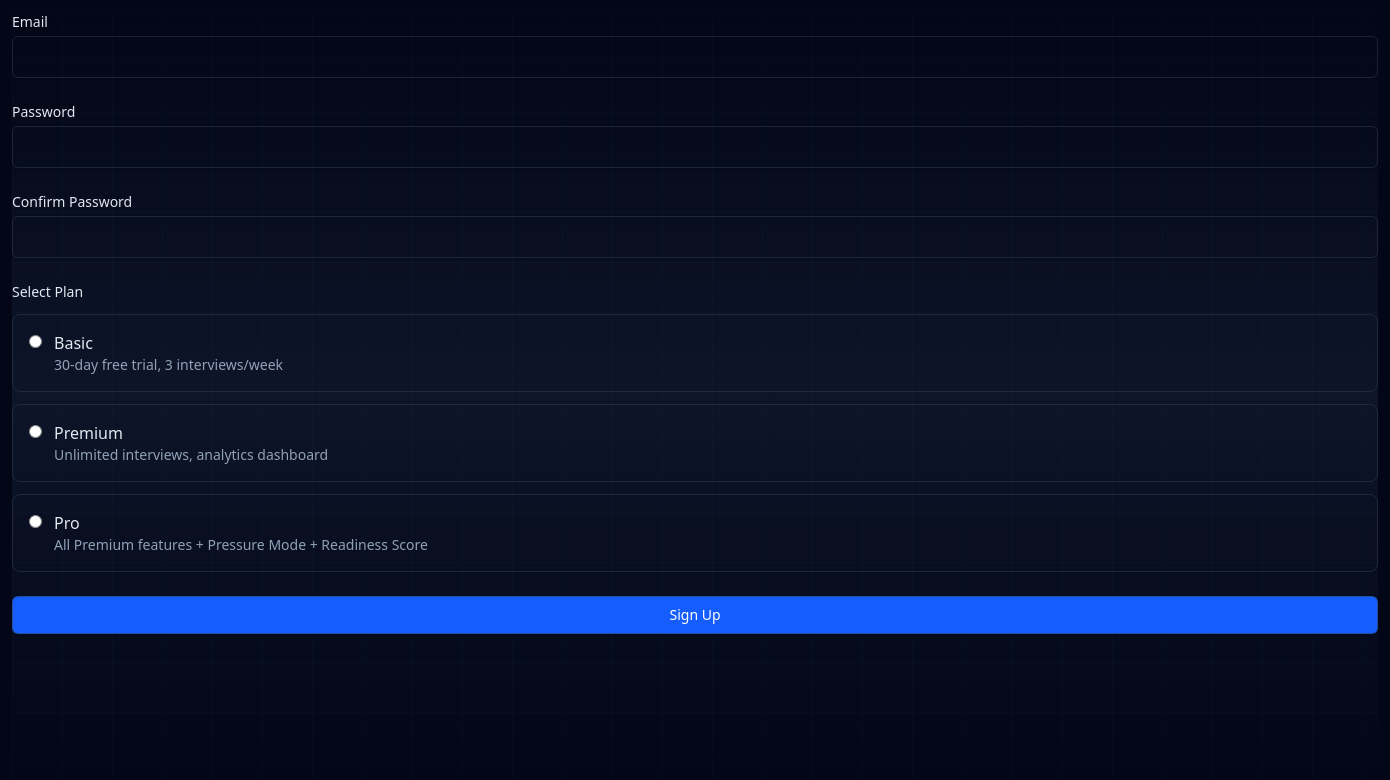
Test case: SignupForm › Form Validation - Email › should show error when email is empty
Step 1. Click the button with test id "submit-button" → (695, 615), box top-left (12, 596), bottom-right (1378, 634)
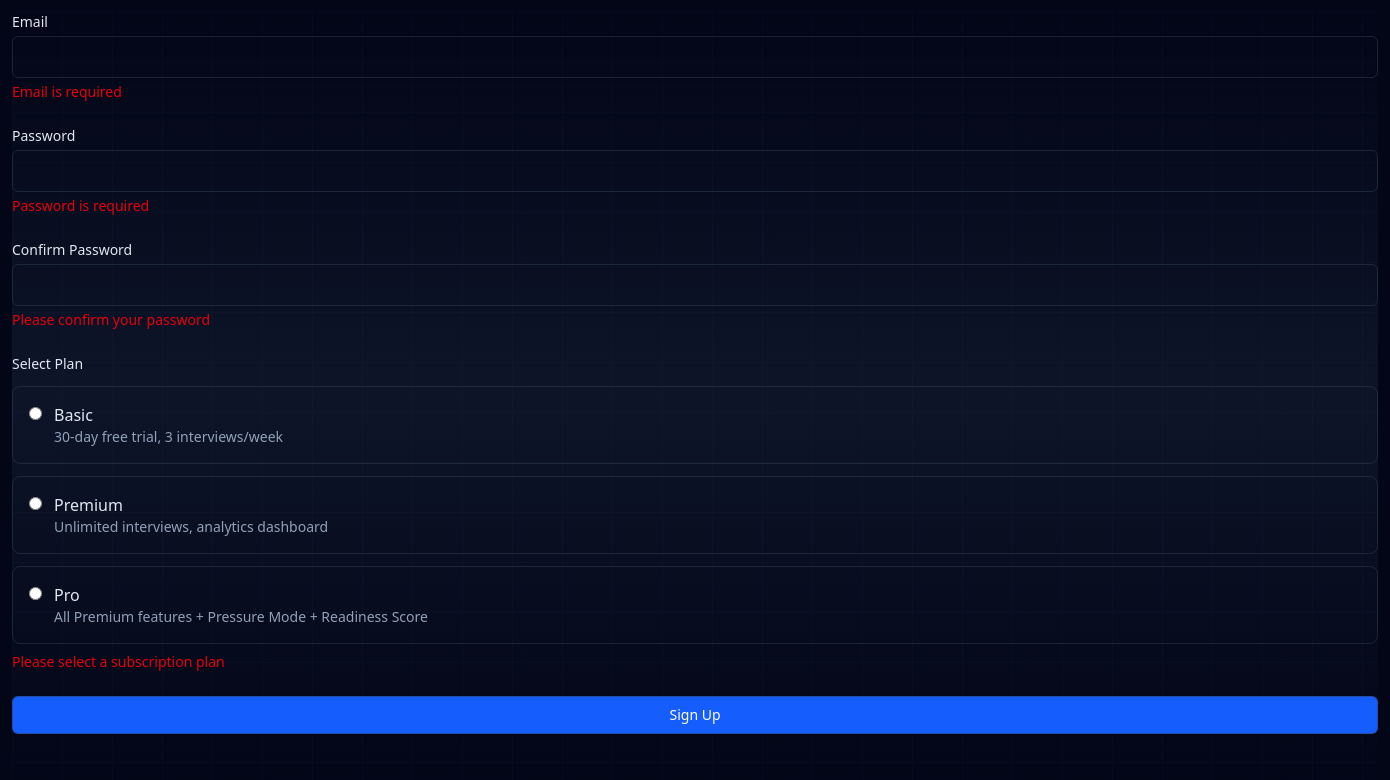
Now the text with test id "email-error" reads "Email is required", box top-left (12, 82), bottom-right (122, 101)
